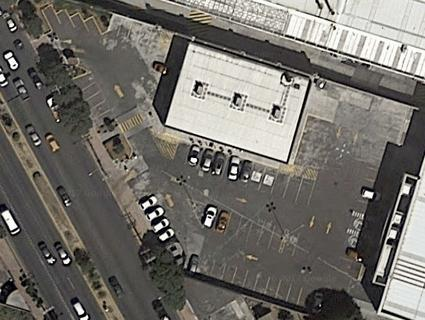parkingspot: (173, 139, 317, 209), (184, 251, 329, 318), (351, 99, 409, 219), (200, 203, 301, 259), (71, 71, 117, 131), (135, 191, 180, 249), (293, 113, 335, 173), (106, 13, 163, 50), (41, 3, 104, 35), (339, 231, 372, 267), (346, 213, 377, 238)
